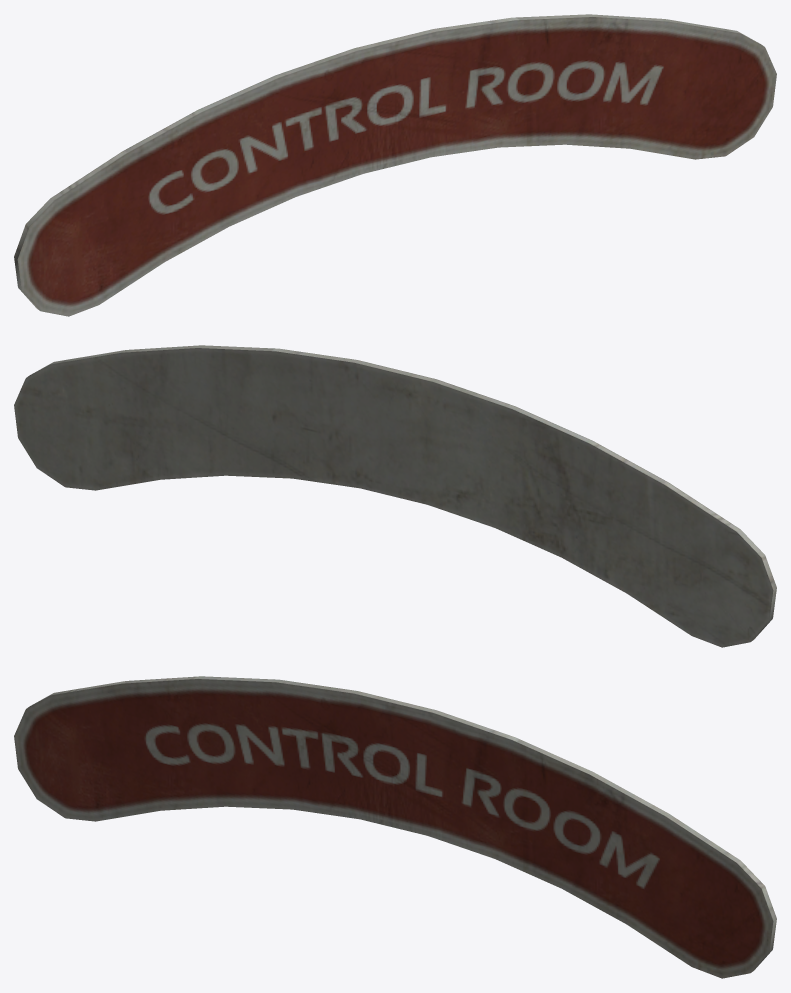
Rendered from tau_inside_reactor_area.dae.
The picture shows the model from 3 angles, top to bottom: view 1: azimuth 30°, elevation 25°; view 2: azimuth 150°, elevation 25°; view 3: azimuth 330°, elevation 25°; orthographic projection.
Visible parts, largest first — view 1: Geometry_mesh026Node6; view 2: Geometry_mesh026Node6; view 3: Geometry_mesh026Node6.
Part boxes in pixels (<box>): Geometry_mesh026Node6: <box>14,14,776,316</box>; Geometry_mesh026Node6: <box>14,345,776,647</box>; Geometry_mesh026Node6: <box>14,676,776,978</box>.
Bounding box in the file's own units: 1.17 × 0.2881 × 0.00977.
